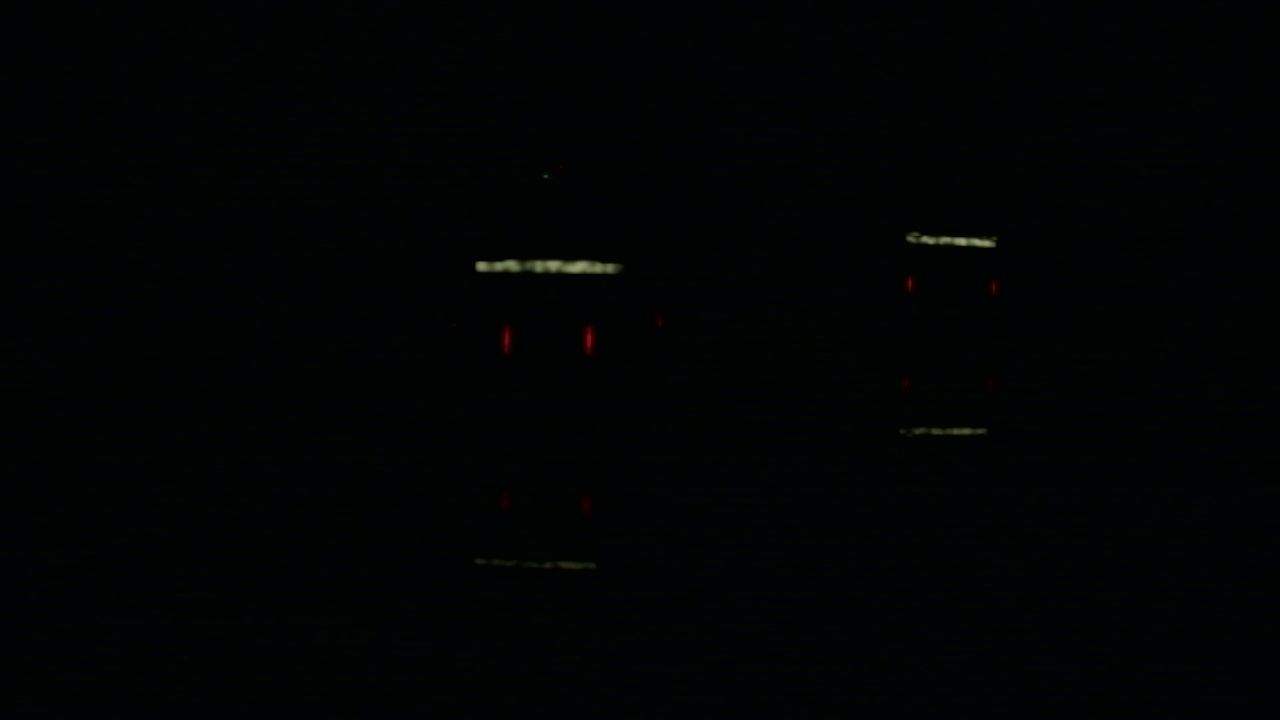lamp: (501, 326, 513, 351), (582, 324, 593, 350), (901, 272, 910, 294), (991, 275, 997, 293)
pair1: (502, 326, 592, 351)
pair2: (903, 275, 999, 295)
